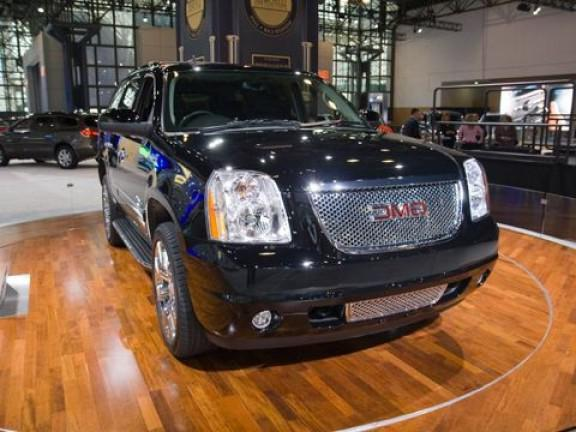Car: (75, 42, 508, 375), (1, 102, 111, 181)
